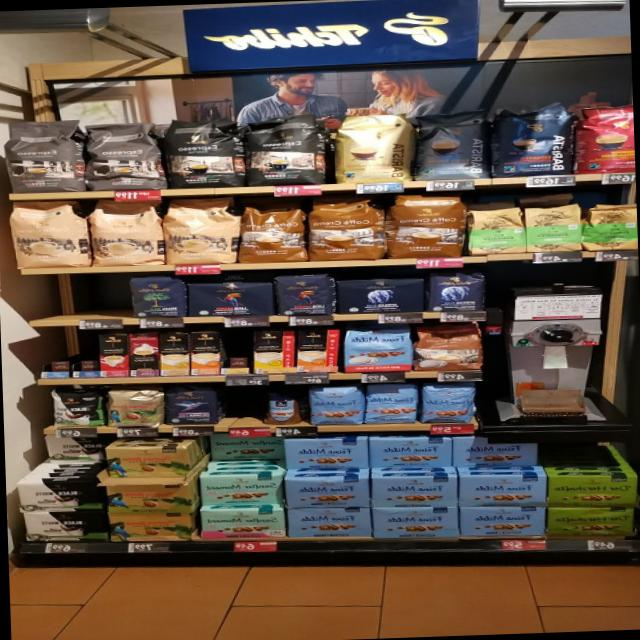AB Bohne: (426, 268, 487, 312)
AB Gemahlen: (334, 277, 428, 315)
Athiopien Bohne: (582, 203, 638, 251)
Athiopien Gemahlen: (522, 202, 584, 254), (469, 204, 524, 256)
BM Bohne: (130, 276, 188, 320)
BW Bohne: (46, 388, 106, 428)
BW Gemahlen: (15, 478, 104, 512), (22, 509, 104, 542)
Barista CB: (330, 112, 413, 184)
Barista CC: (411, 106, 492, 182)
Barista Espresso: (488, 100, 576, 179)
C Fino Bohne: (162, 386, 222, 426)
CC Mild: (8, 199, 88, 269), (162, 194, 238, 266), (89, 199, 164, 266)
CC Vollmundig: (412, 322, 485, 372)
CC Vollmundig 36 Pads: (304, 192, 388, 262), (386, 190, 468, 258), (238, 196, 306, 263)
Colombia BB Bohne: (104, 388, 164, 428)
Colombia BB Gemahlen: (104, 480, 192, 514), (106, 510, 196, 542), (106, 444, 190, 478)
Empty Shelf: (27, 277, 128, 321), (218, 329, 254, 368), (40, 336, 70, 372), (72, 334, 100, 371)
Espresso Aromatisch: (3, 118, 80, 192), (84, 120, 162, 190)
Espresso Kraftig: (162, 116, 245, 190), (244, 111, 324, 186)
FM 36 Pads: (340, 325, 412, 373)
FM Bohne: (419, 382, 479, 424), (362, 382, 420, 425), (306, 384, 364, 426)
FM Gemahlen: (457, 472, 547, 508), (368, 474, 459, 508), (459, 504, 549, 538), (370, 505, 459, 539), (284, 506, 370, 539), (281, 437, 368, 469), (284, 477, 368, 510), (367, 438, 452, 468)
FM Instant: (258, 388, 304, 427)
Herzhatfe Mundig: (545, 471, 640, 510), (544, 504, 640, 540)
LG Bohne: (274, 272, 336, 316)
LG Gemahlen: (184, 280, 275, 318)
SM Gemahlen: (198, 506, 285, 540), (200, 472, 284, 506)
Simo CCMild: (253, 329, 295, 373)
Simo CCVollmundig: (295, 329, 340, 372)
Simo CCVollmundig bigpack: (189, 330, 219, 374)
Simo Decaff: (160, 332, 190, 376)
Simo Es Brazil: (100, 333, 128, 377)
